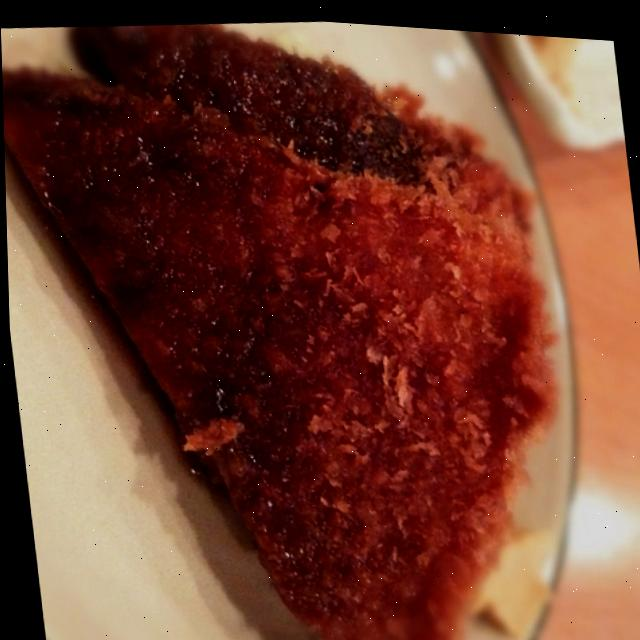炸货点心: (0, 0, 618, 640)
